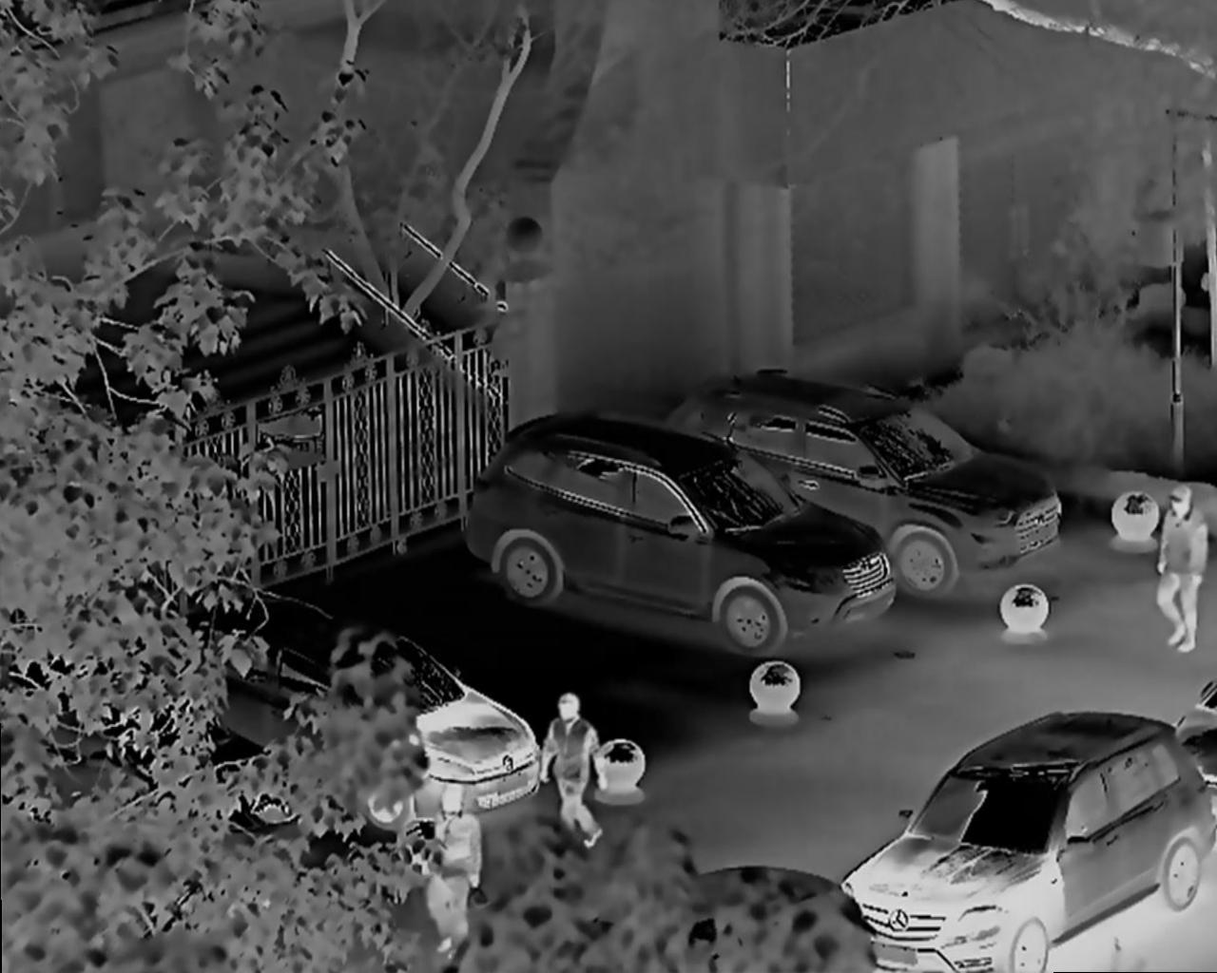person: (1146, 485, 1209, 650), (543, 696, 612, 845), (417, 793, 486, 936)
